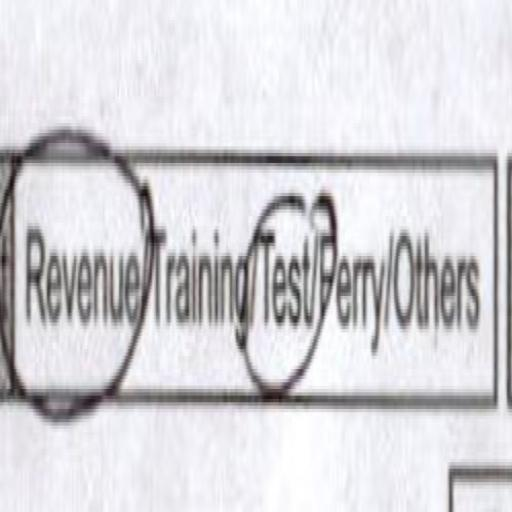check: (16, 51, 144, 447), (253, 124, 322, 449)
